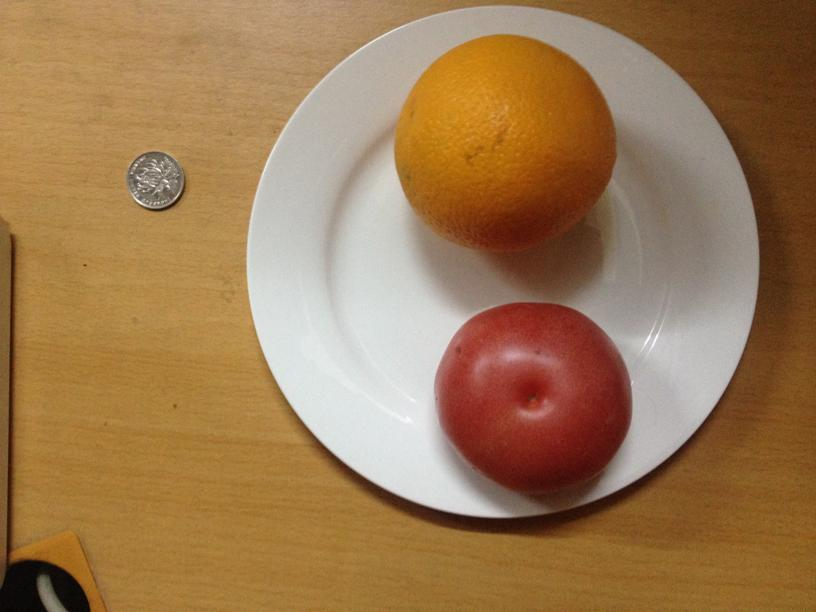coin: (128, 149, 185, 209)
orange: (393, 30, 618, 254)
tomato: (436, 303, 631, 489)
